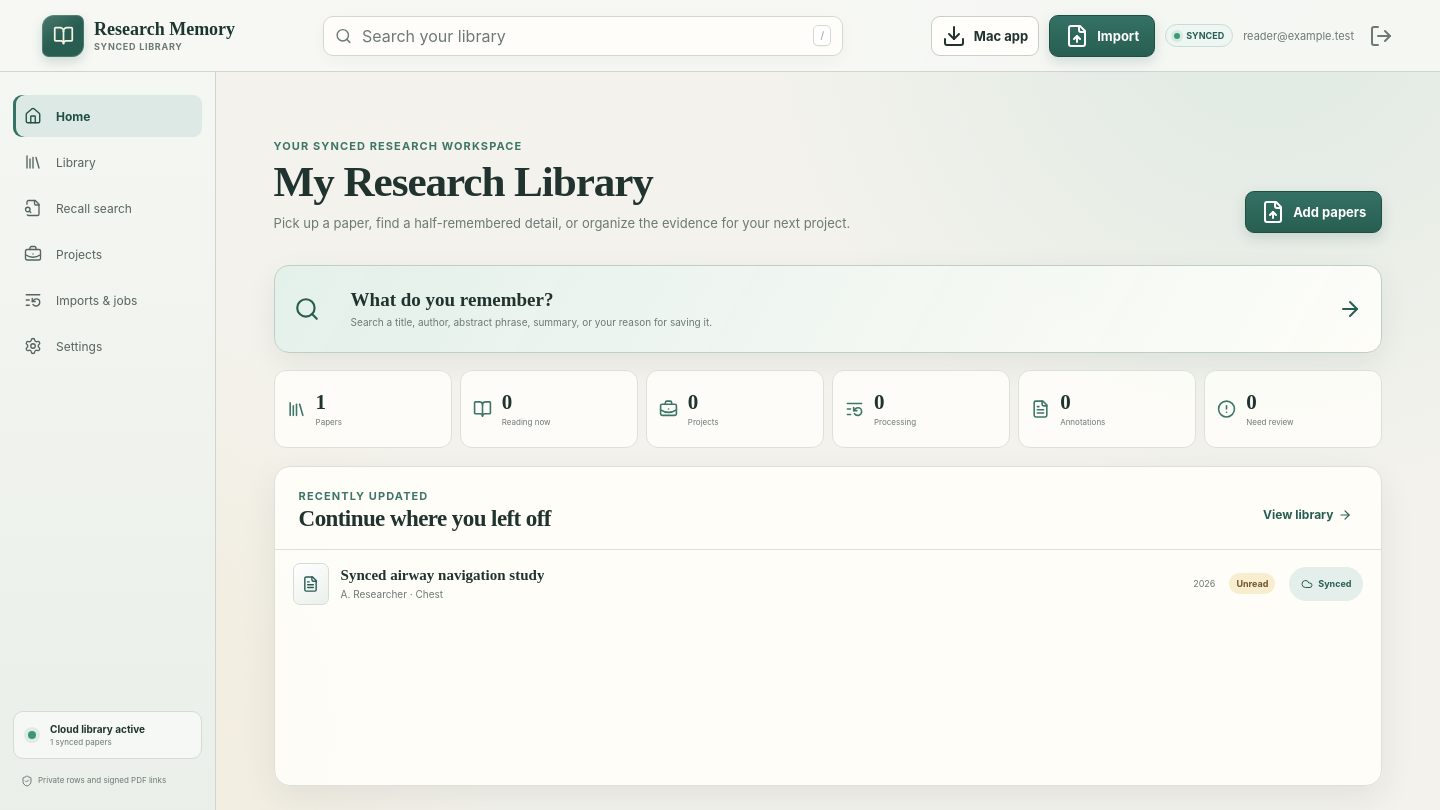
Test: runs recall search from the web navigation
Expected: the heading "My Research Library" is shown, [274, 158, 653, 205]
Click the button "Recall search" at [108, 208], box [13, 187, 202, 229]
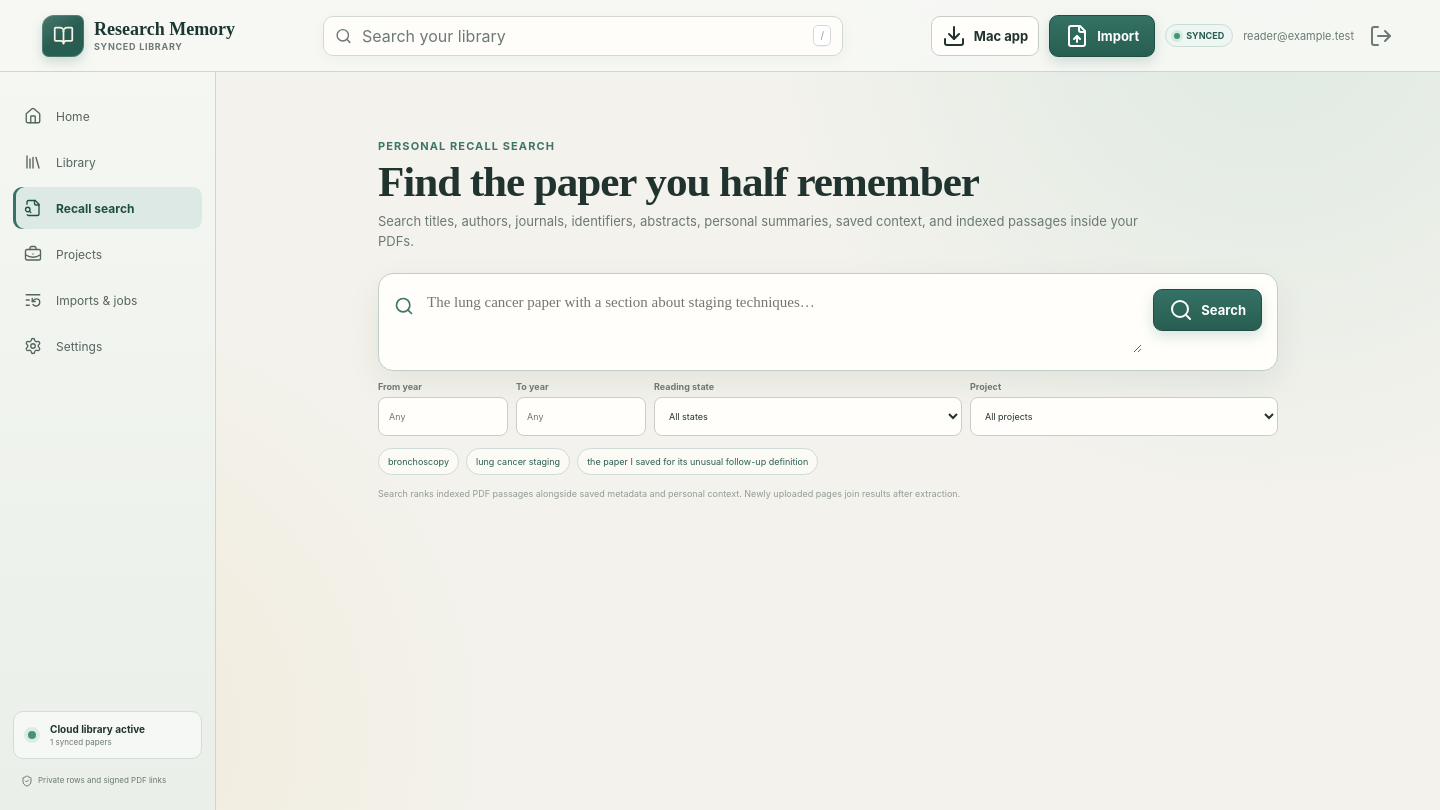
Expected: the heading "Find the paper you half remember" is shown, [378, 158, 979, 205]
Type "airway navigation" into the text box named "Recall search query" at [785, 321], box [427, 289, 1142, 353]
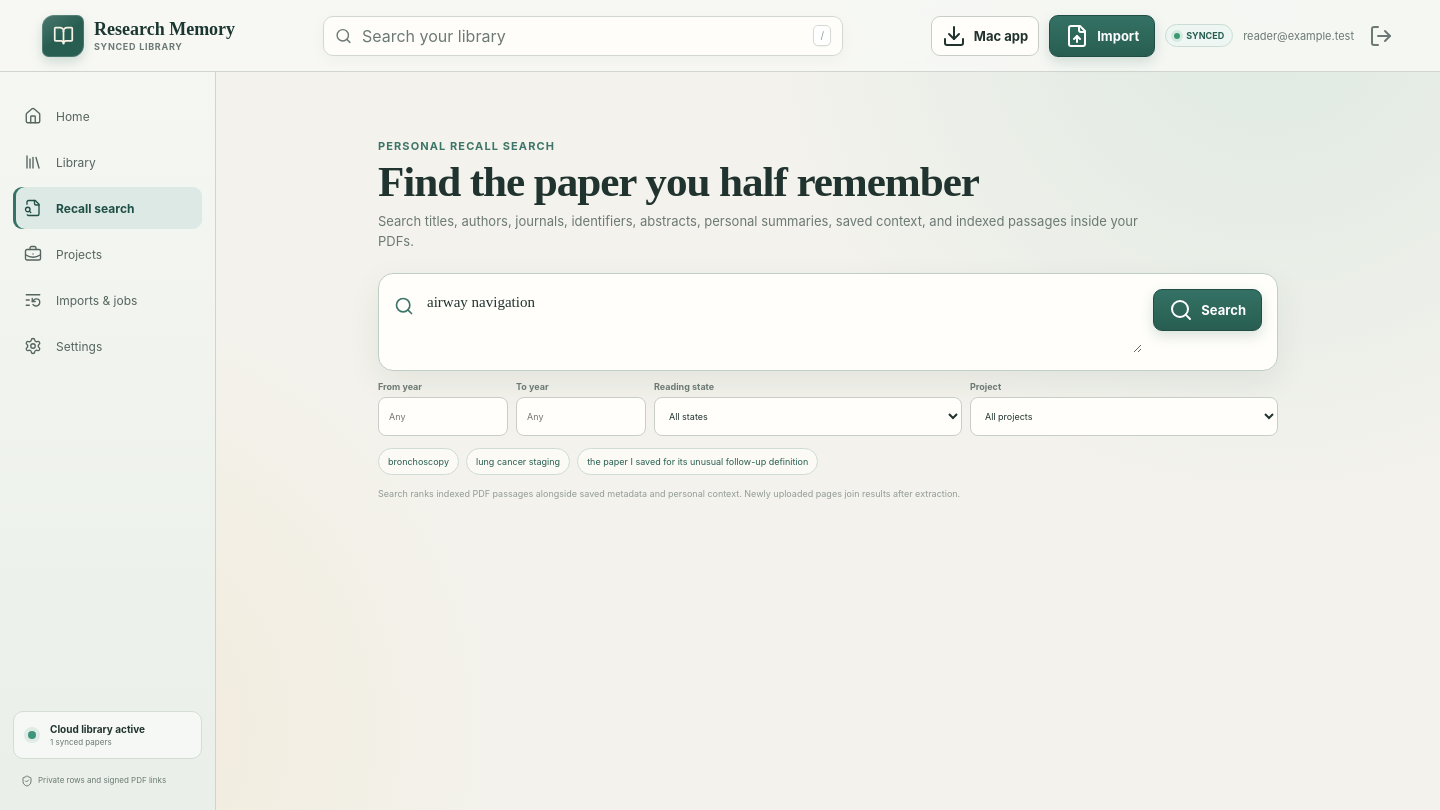
Click the button with aria-label "Run recall search" at [1208, 310], box [1153, 289, 1262, 331]
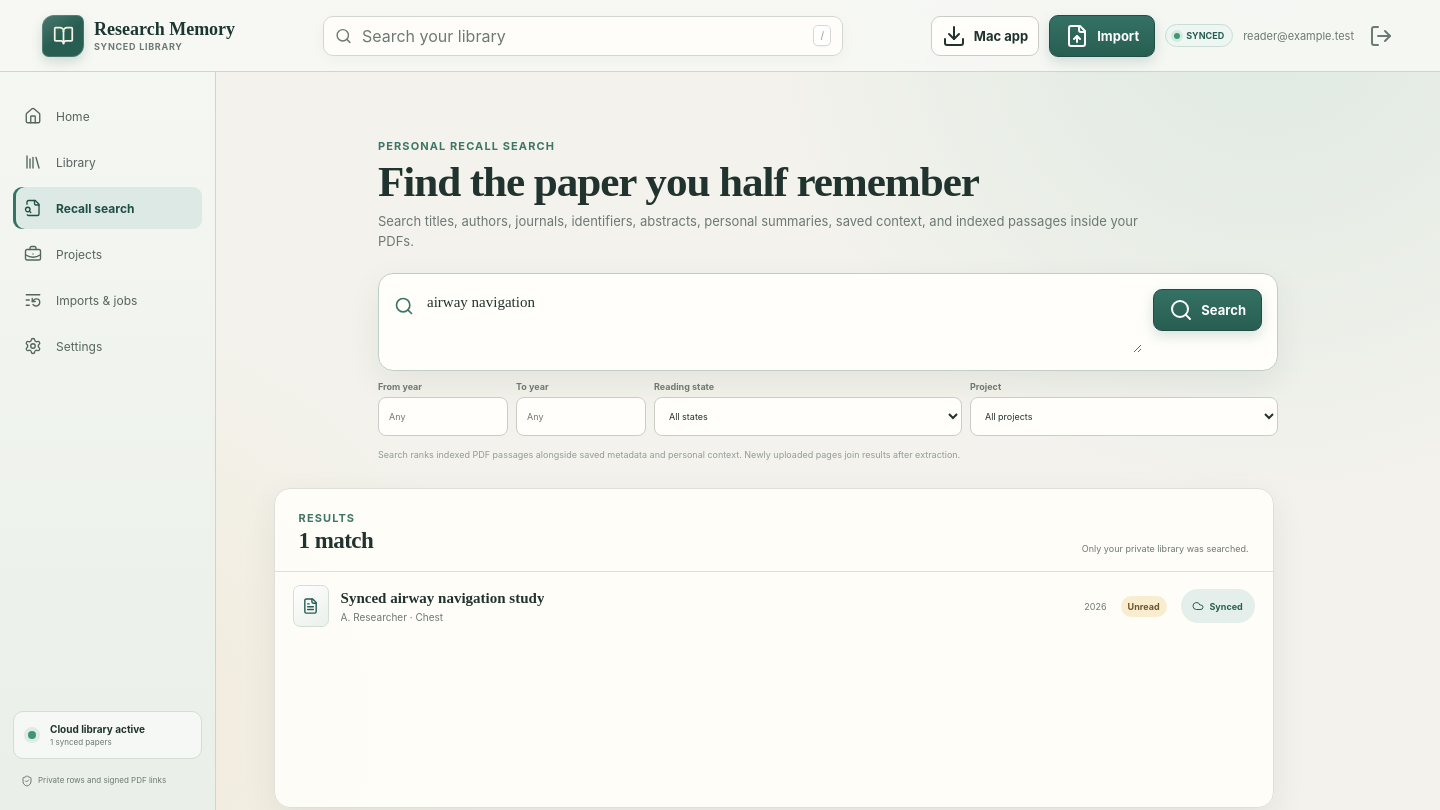
Expected: the heading "1 match" is shown, [299, 528, 373, 554]
